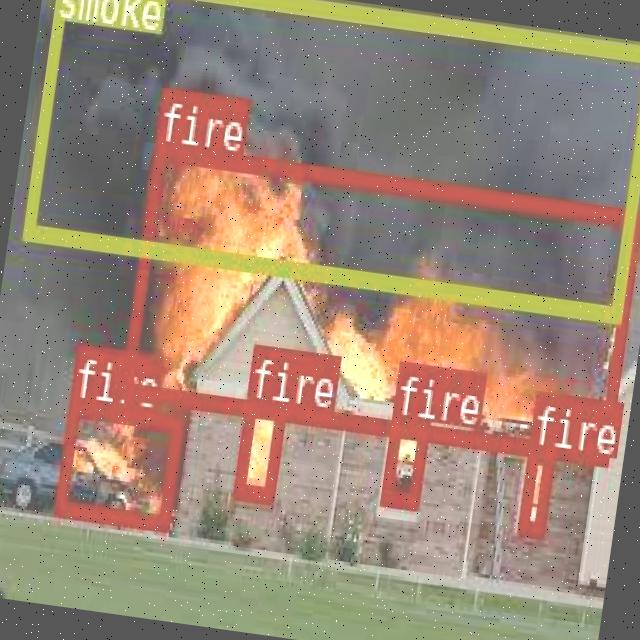fire: (118, 141, 640, 461), (54, 397, 182, 528), (232, 398, 286, 502), (379, 416, 427, 506), (515, 444, 554, 534)
smoke: (21, 0, 640, 321)
